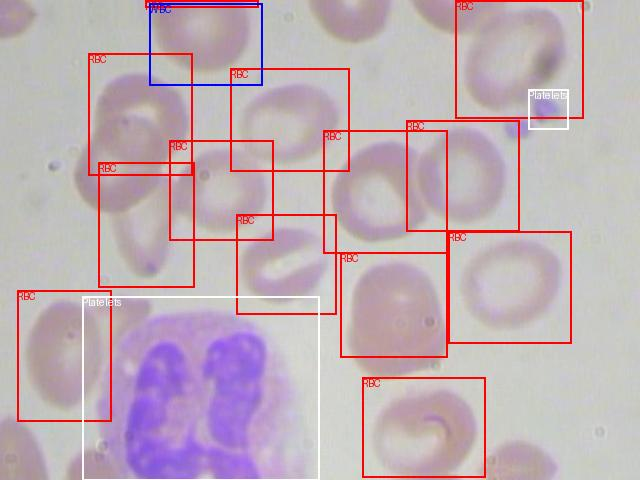Platelets: (82, 296, 319, 480), (528, 89, 568, 129)
RBC: (323, 130, 447, 253), (455, 0, 583, 118), (448, 231, 571, 343), (88, 53, 192, 175), (406, 120, 519, 231), (17, 290, 111, 421), (362, 377, 485, 477), (230, 68, 349, 171), (98, 162, 194, 287), (340, 252, 447, 357), (169, 140, 273, 240), (236, 214, 336, 314), (145, 0, 258, 7)
WBC: (149, 3, 262, 85)
